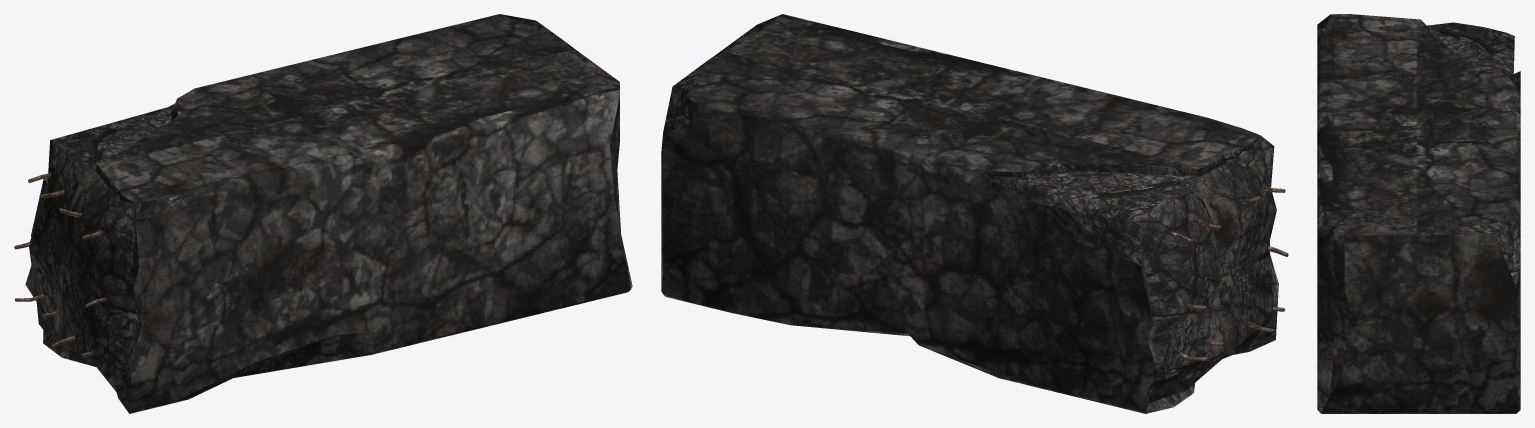
Rendered from Rubble.fbx.
3 renders of one model, left to right at view 1: azimuth 30°, elevation 25°; view 2: azimuth 150°, elevation 25°; view 3: azimuth 270°, elevation 25°, orthographic. The views are drawn at different scales.
Parts seen in each view (by area): view 1: SMO_BG50_Rubble_0200; view 2: SMO_BG50_Rubble_0200; view 3: SMO_BG50_Rubble_0200.
Part boxes in pixels (bbox=[...]): SMO_BG50_Rubble_0200: bbox=[14, 14, 632, 413]; SMO_BG50_Rubble_0200: bbox=[661, 14, 1288, 413]; SMO_BG50_Rubble_0200: bbox=[1317, 14, 1520, 413].
Size of the model in its own units: 233 by 84.33 by 84.33.
